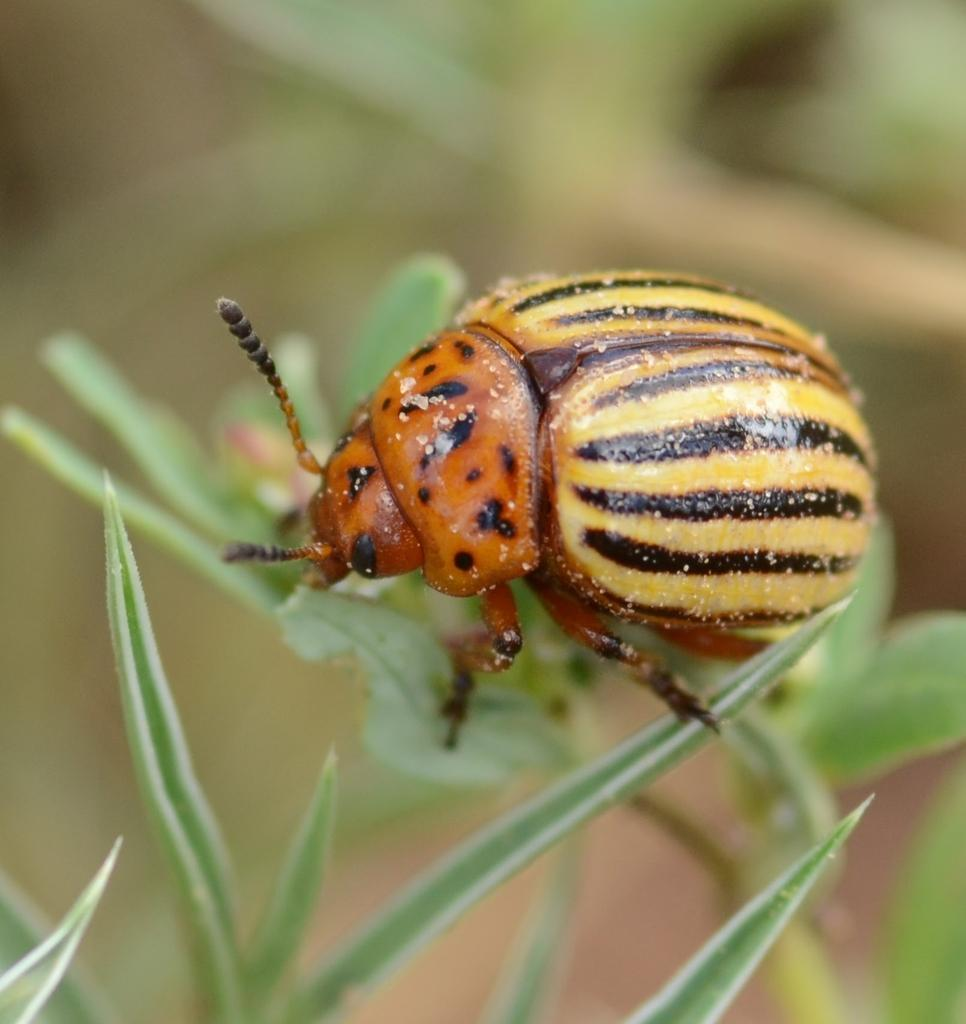potato_beetle: (105, 147, 966, 828)
